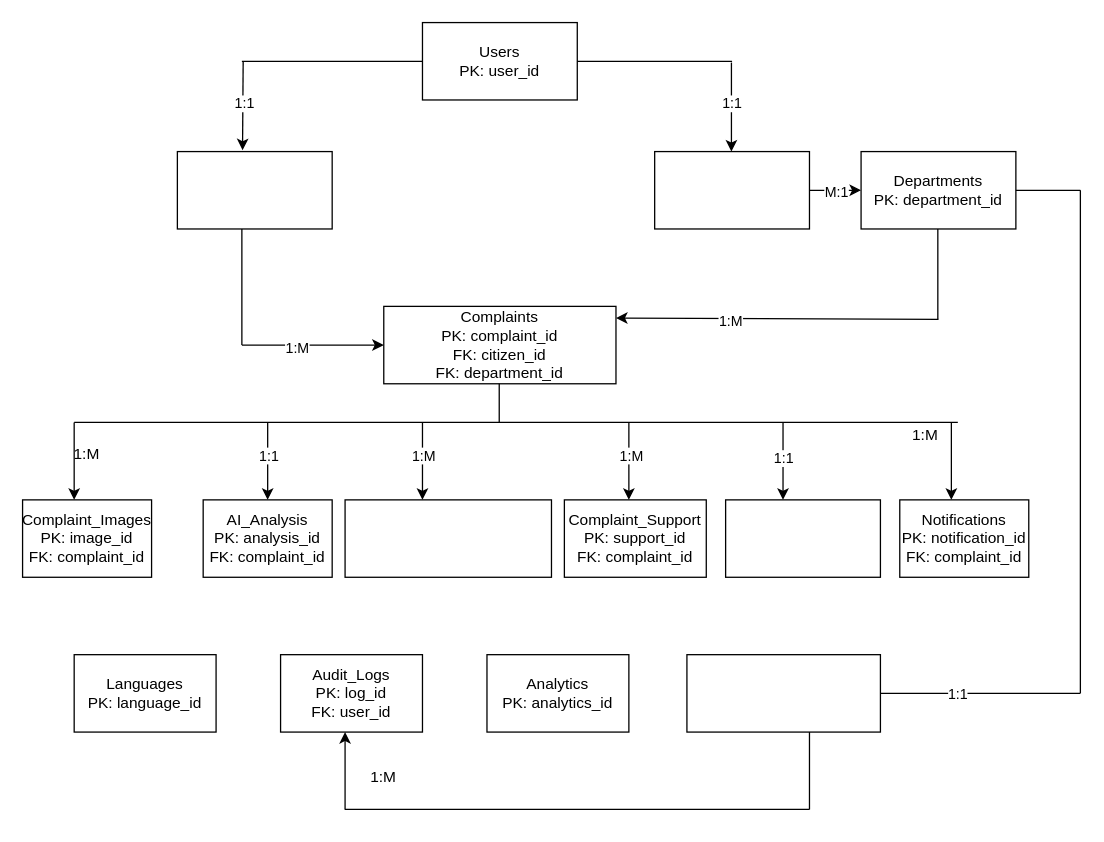
Some shapes in this 1104 by 842 pixel diagram are drawn without their labels. The box of each missing label's shape, as (x1, y1, x2, y2) in pixels:
Citizen_Confirmation PK: confirmation_id FK: complaint_id: (724, 499, 880, 577)
Citizen_Profiles PK: citizen_id FK: user_id: (176, 150, 332, 229)
Complaint_Status_History PK: history_id FK: complaint_id: (344, 499, 551, 577)
Department_Performance PK: performance_id FK: department_id: (686, 653, 880, 732)
Officer_Profiles PK: officer_id FK: user_id FK: department_id: (653, 150, 809, 229)
